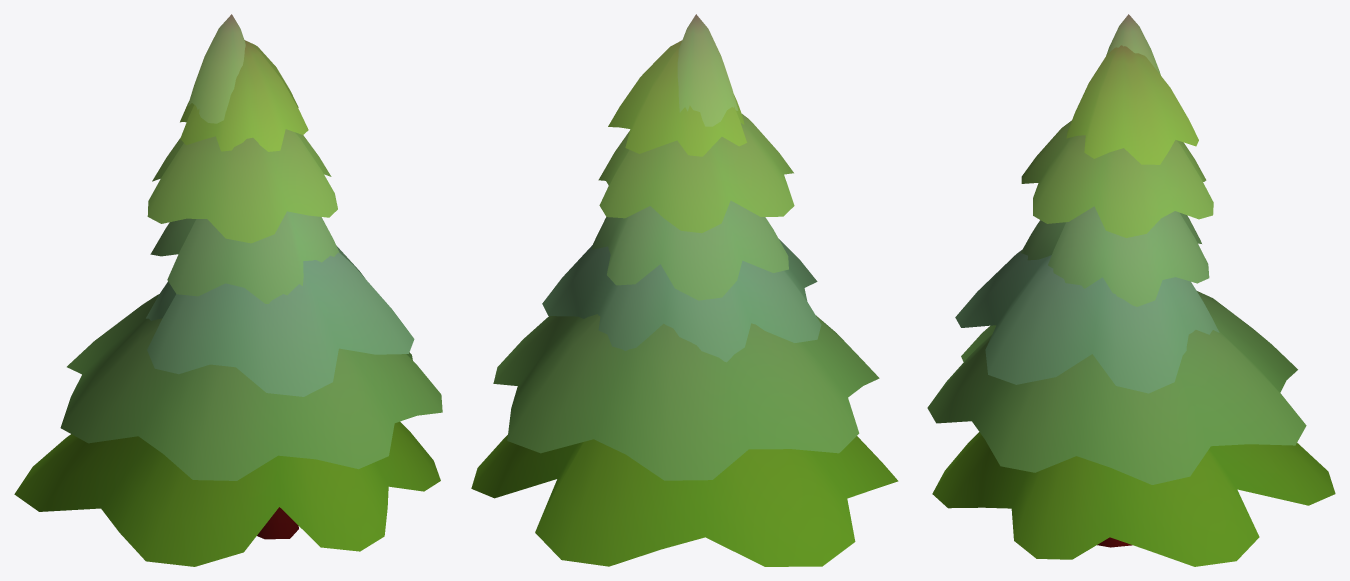
File: conifer_b.glb
The picture shows the model from 3 angles, left to right: view 1: azimuth 30°, elevation 25°; view 2: azimuth 150°, elevation 25°; view 3: azimuth 270°, elevation 25°; orthographic projection. The views are drawn at different scales.
Parts seen in each view (by area): view 1: conifer_b_LOD0; view 2: conifer_b_LOD0; view 3: conifer_b_LOD0.
Part boxes in pixels (<box>): conifer_b_LOD0: <box>14,14,442,566</box>; conifer_b_LOD0: <box>471,14,898,566</box>; conifer_b_LOD0: <box>927,14,1335,566</box>.
Size of what is drawn, in the model's own units: 5.62 by 7.65 by 5.58.
